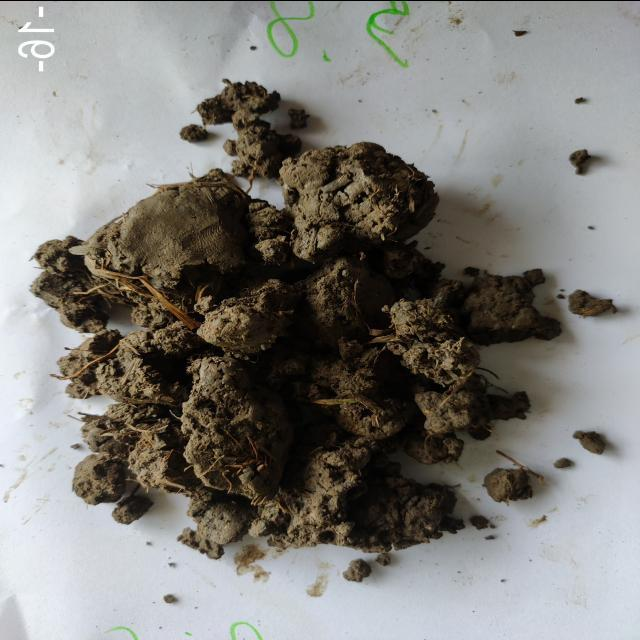soil: (126, 246, 410, 474)
